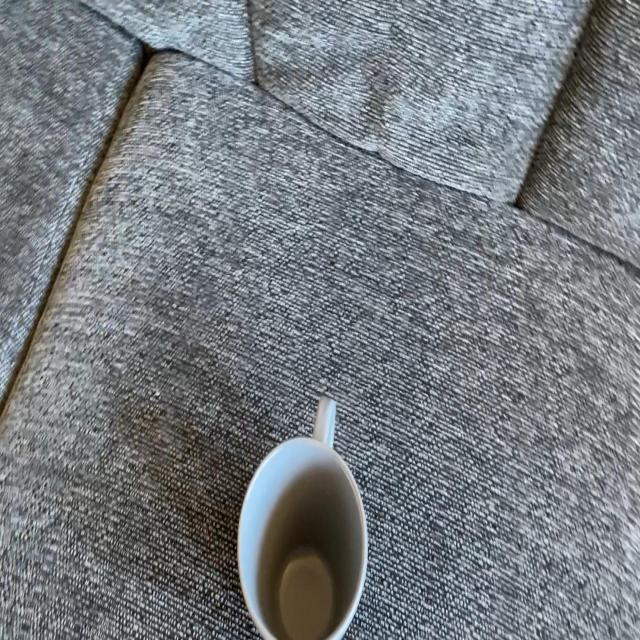cup: (215, 395, 386, 639)
